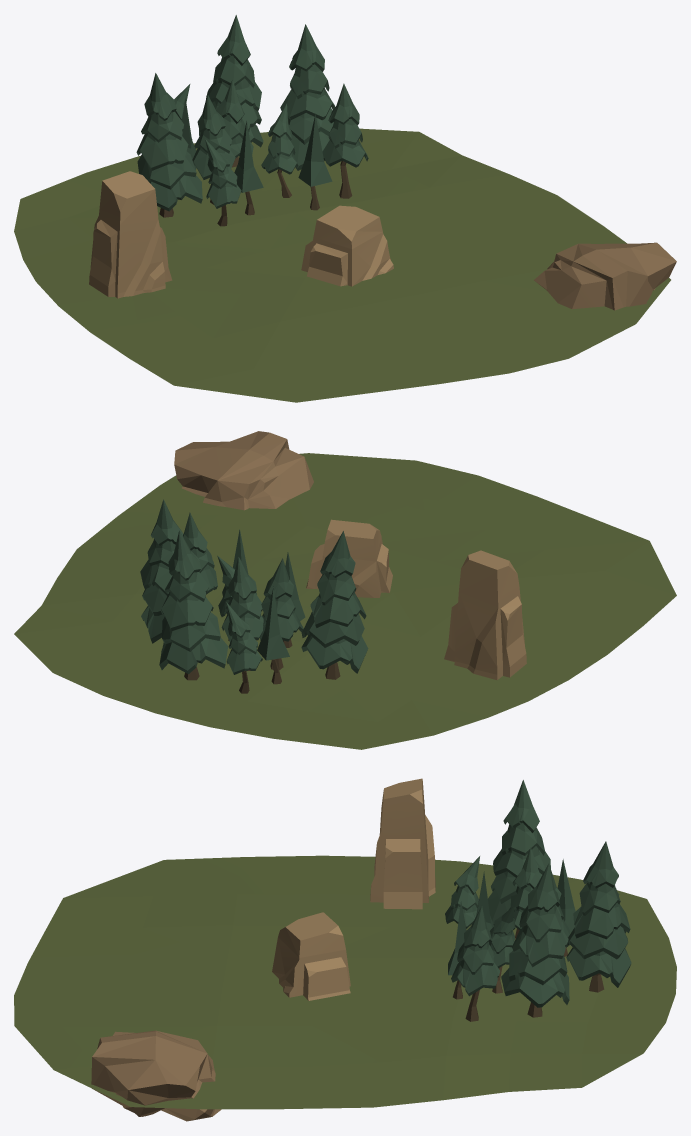
File: PrototypeMap.glb
3 views of the same model, one above another, from view 1: azimuth 30°, elevation 25°; view 2: azimuth 150°, elevation 25°; view 3: azimuth 270°, elevation 25° (orthographic). The views are drawn at different scales.
Parts seen in each view (by area): view 1: Ground, SM_Env_TreePine_03 (×3), SM_Env_Rock_010, SM_Env_Rock_011, SM_Env_Rock_09, SM_Env_TreePine_01 (1) (×3), SM_Env_TreePine_02 (×2), SM_Env_TreePine_04 (×2); view 2: Ground, SM_Env_TreePine_03 (×3), SM_Env_Rock_011, SM_Env_Rock_010, SM_Env_TreePine_01 (1) (×3), SM_Env_Rock_09, SM_Env_TreePine_02 (×2), SM_Env_TreePine_04; view 3: Ground, SM_Env_TreePine_03 (×3), SM_Env_Rock_011, SM_Env_Rock_010, SM_Env_Rock_09, SM_Env_TreePine_01 (1) (×2), SM_Env_TreePine_02 (×2), SM_Env_TreePine_04 (×2).
Boxes of the visible parts, x1,y1,x2,y2 form: Ground: [14, 128, 670, 402]; SM_Env_TreePine_03 (×3): [136, 15, 334, 217]; SM_Env_Rock_010: [89, 171, 172, 298]; SM_Env_Rock_011: [534, 242, 676, 310]; SM_Env_Rock_09: [301, 205, 393, 286]; SM_Env_TreePine_01 (1) (×3): [192, 79, 368, 204]; SM_Env_TreePine_02 (×2): [205, 103, 299, 226]; SM_Env_TreePine_04 (×2): [234, 114, 332, 215]; Ground: [14, 453, 676, 749]; SM_Env_TreePine_03 (×3): [140, 499, 368, 680]; SM_Env_Rock_011: [174, 431, 313, 510]; SM_Env_Rock_010: [444, 550, 526, 679]; SM_Env_TreePine_01 (1) (×3): [183, 512, 303, 670]; SM_Env_Rock_09: [306, 519, 392, 597]; SM_Env_TreePine_02 (×2): [217, 555, 262, 693]; SM_Env_TreePine_04: [257, 586, 289, 684]; Ground: [14, 855, 676, 1109]; SM_Env_TreePine_03 (×3): [488, 780, 631, 1017]; SM_Env_Rock_011: [91, 1030, 221, 1121]; SM_Env_Rock_010: [370, 778, 435, 909]; SM_Env_Rock_09: [272, 912, 350, 1000]; SM_Env_TreePine_01 (1) (×2): [451, 847, 541, 1021]; SM_Env_TreePine_02 (×2): [445, 856, 515, 993]; SM_Env_TreePine_04 (×2): [448, 859, 575, 999].
Bounding box in the file's own units: 64.81 × 23.13 × 71.6.
Materials: 1 (1 with a texture image).
